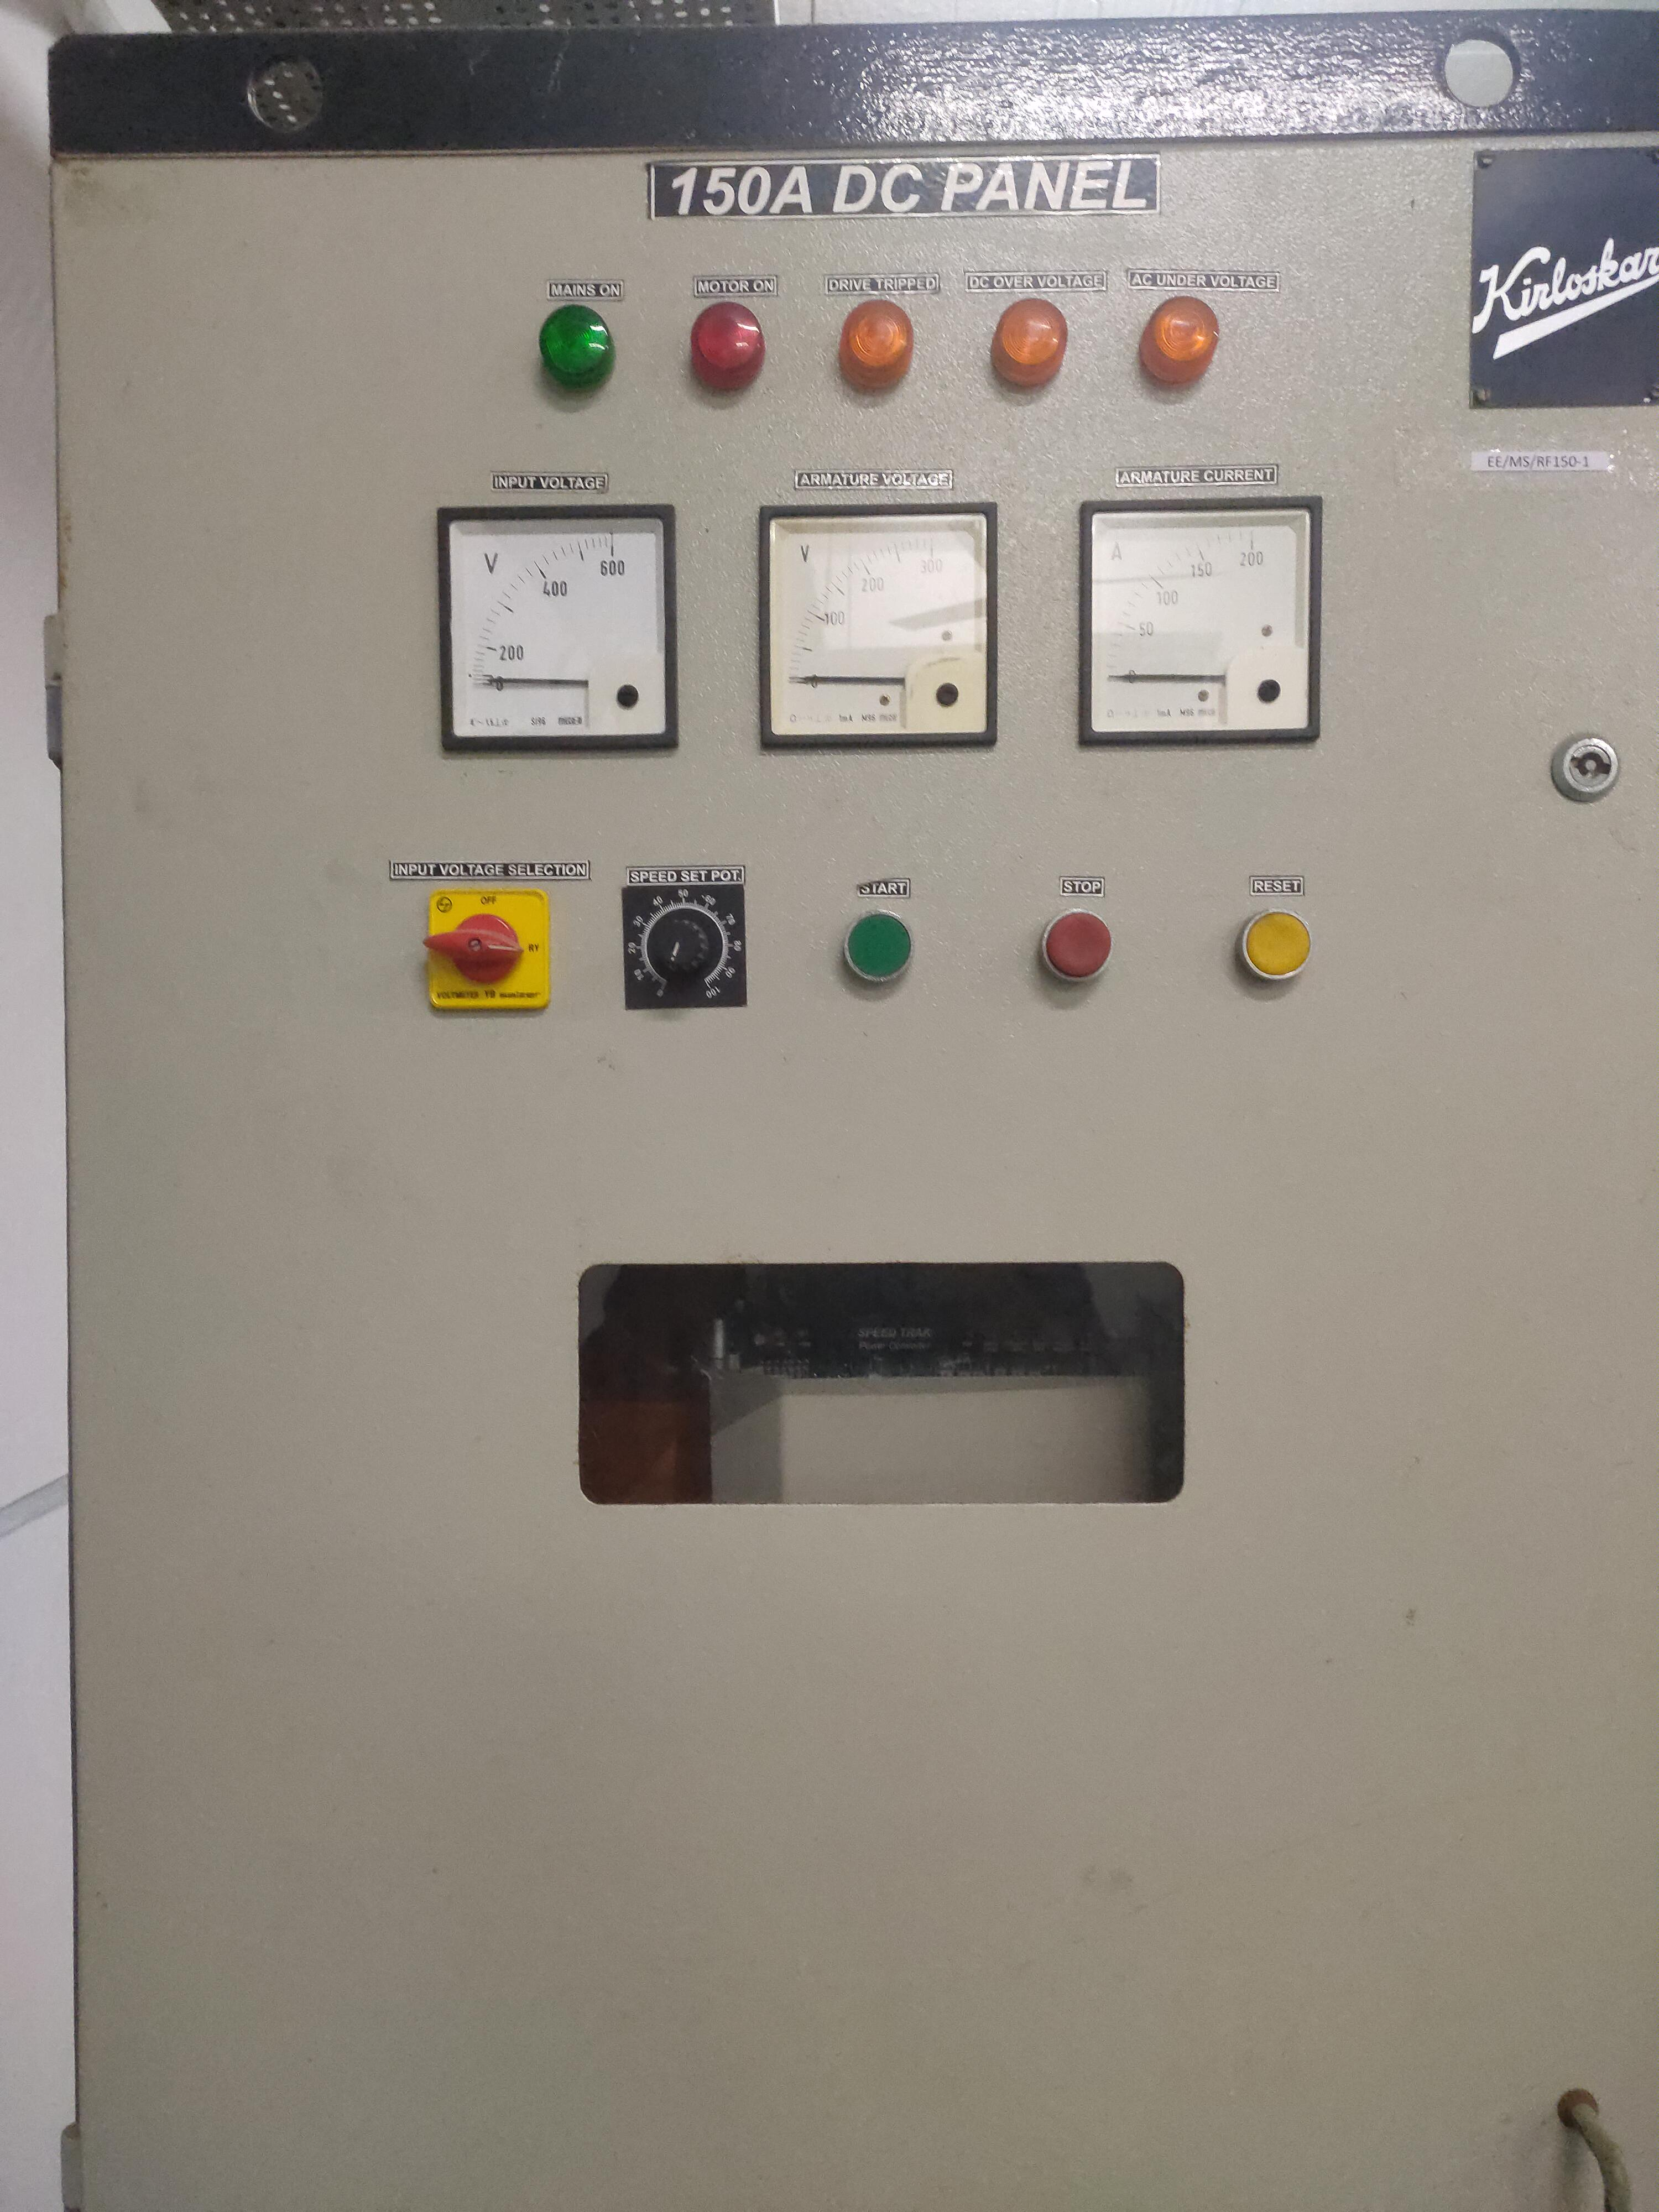Light Indications: (490, 260, 1288, 441)
